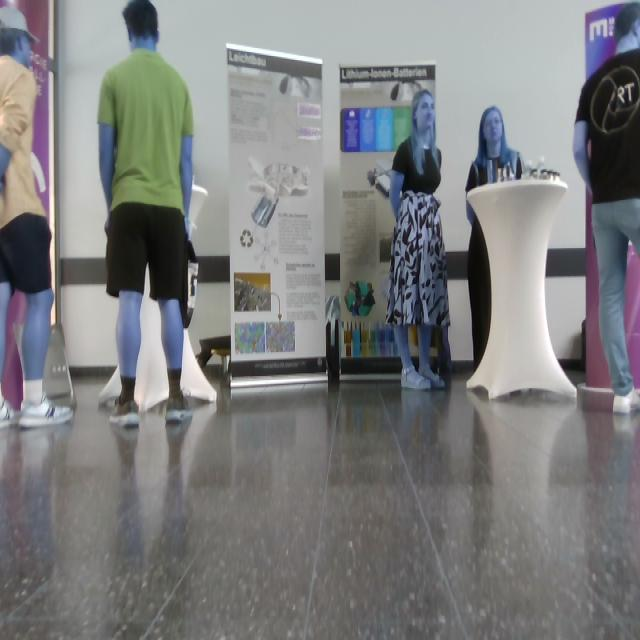door: (227, 44, 329, 388)
light bulb: (248, 156, 309, 228), (187, 180, 209, 233), (252, 194, 279, 228), (280, 75, 312, 99), (30, 152, 47, 193), (390, 81, 422, 102), (367, 166, 392, 188)
person: (97, 1, 196, 428), (1, 7, 74, 431), (573, 3, 640, 415), (386, 89, 453, 390), (465, 106, 525, 373)
pillar: (466, 177, 578, 401)
tiled floor: (1, 365, 640, 640)
